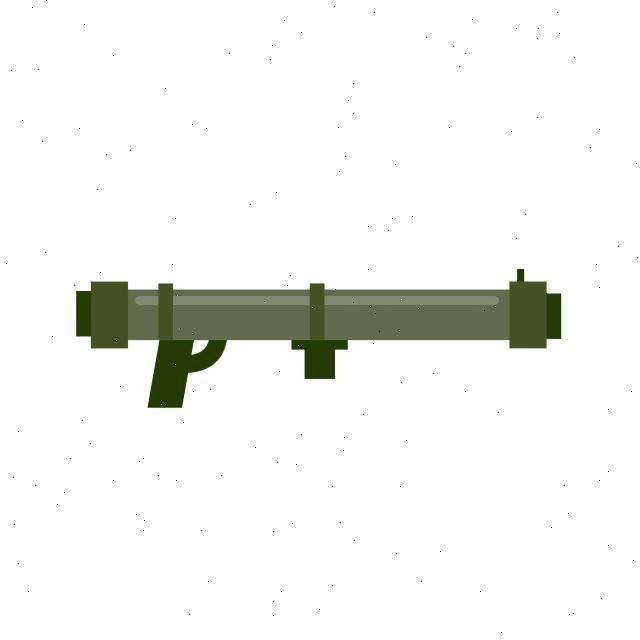bazooka: (64, 261, 574, 423)
